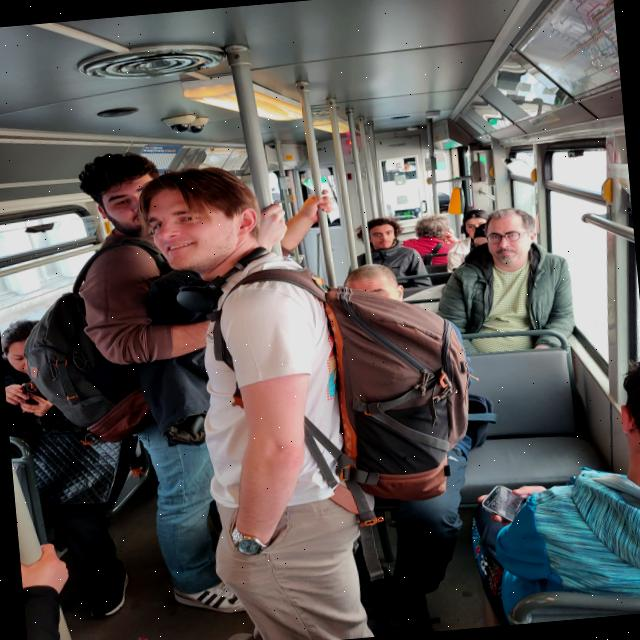empty-seat-frontal: (445, 328, 596, 500)
